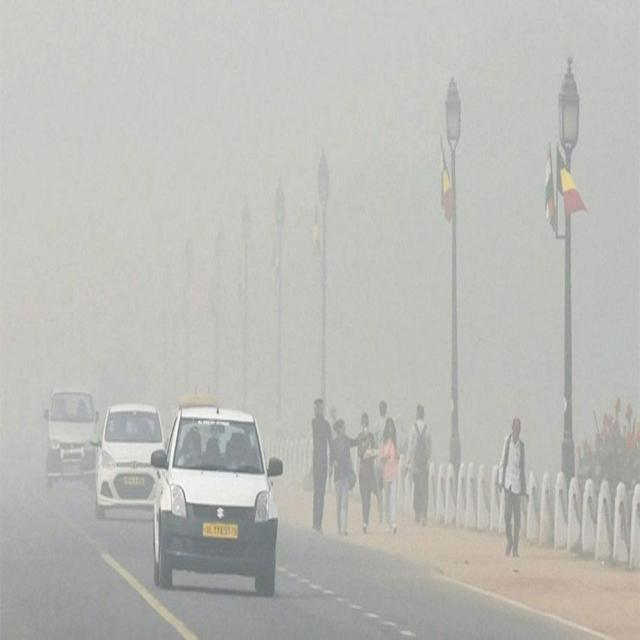Car: (152, 397, 280, 600), (98, 408, 166, 520), (44, 388, 98, 494)
